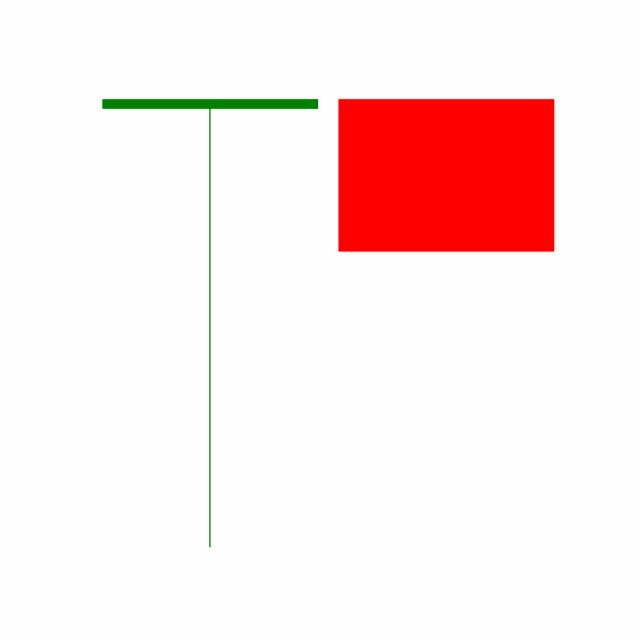Marubozu: (327, 98, 565, 254)
